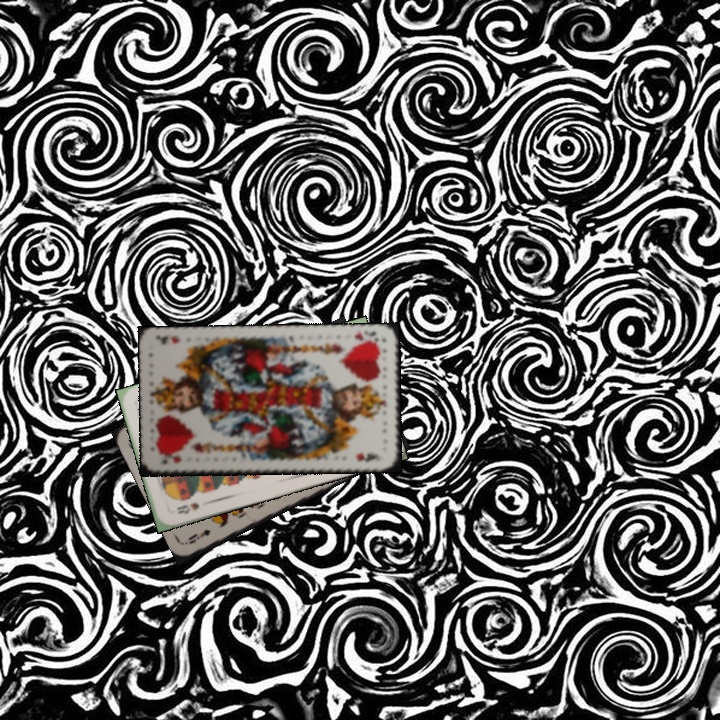E9: (184, 525, 213, 547)
HK: (350, 327, 381, 347), (159, 451, 184, 467)
S8: (172, 498, 202, 517)
